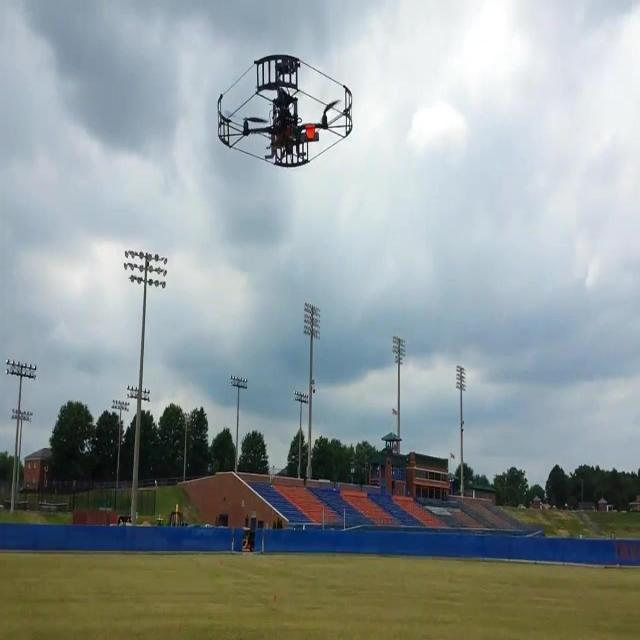drone: (216, 51, 353, 170)
